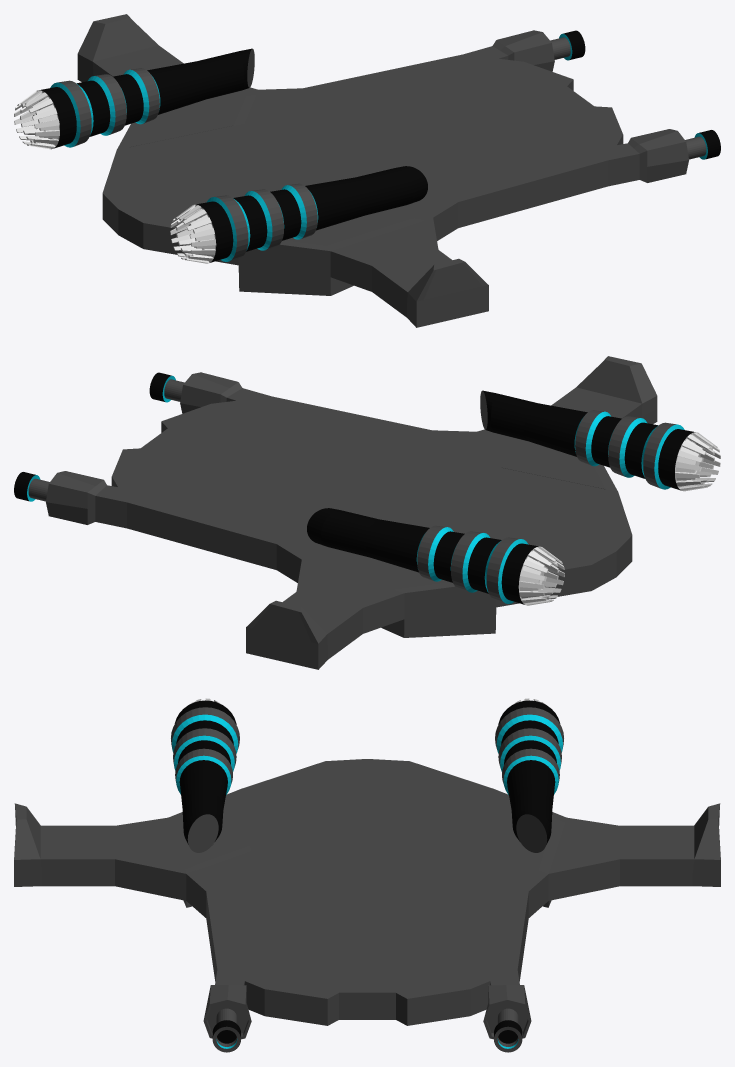
File: nave 1.fbx
The picture shows the model from 3 angles, top to bottom: view 1: azimuth 30°, elevation 25°; view 2: azimuth 150°, elevation 25°; view 3: azimuth 270°, elevation 25°; orthographic projection. The views are drawn at different scales.
Parts seen in each view (by area): view 1: Cube; view 2: Cube; view 3: Cube.
Boxes of the visible parts, x1,y1,x2,y2 form: Cube: (14, 14, 720, 327); Cube: (14, 356, 720, 669); Cube: (14, 698, 720, 1052).
Size of the model in its own units: 3015 by 602 by 3276.
